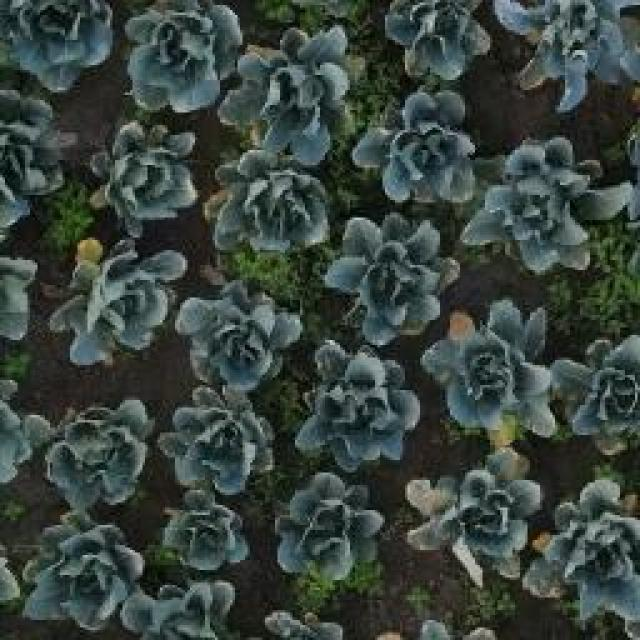cabbage: (466, 139, 634, 270), (223, 27, 366, 163), (324, 216, 454, 342), (434, 307, 556, 439), (300, 340, 422, 470), (58, 238, 190, 358), (491, 0, 640, 105), (21, 514, 144, 634), (349, 90, 475, 207), (414, 452, 534, 574), (534, 481, 640, 619), (176, 280, 304, 393), (44, 393, 158, 512), (123, 0, 242, 112), (88, 115, 198, 233), (160, 390, 278, 494), (208, 153, 334, 250), (274, 474, 386, 583), (552, 335, 640, 449), (0, 0, 112, 88), (383, 0, 495, 80), (160, 497, 253, 577)
